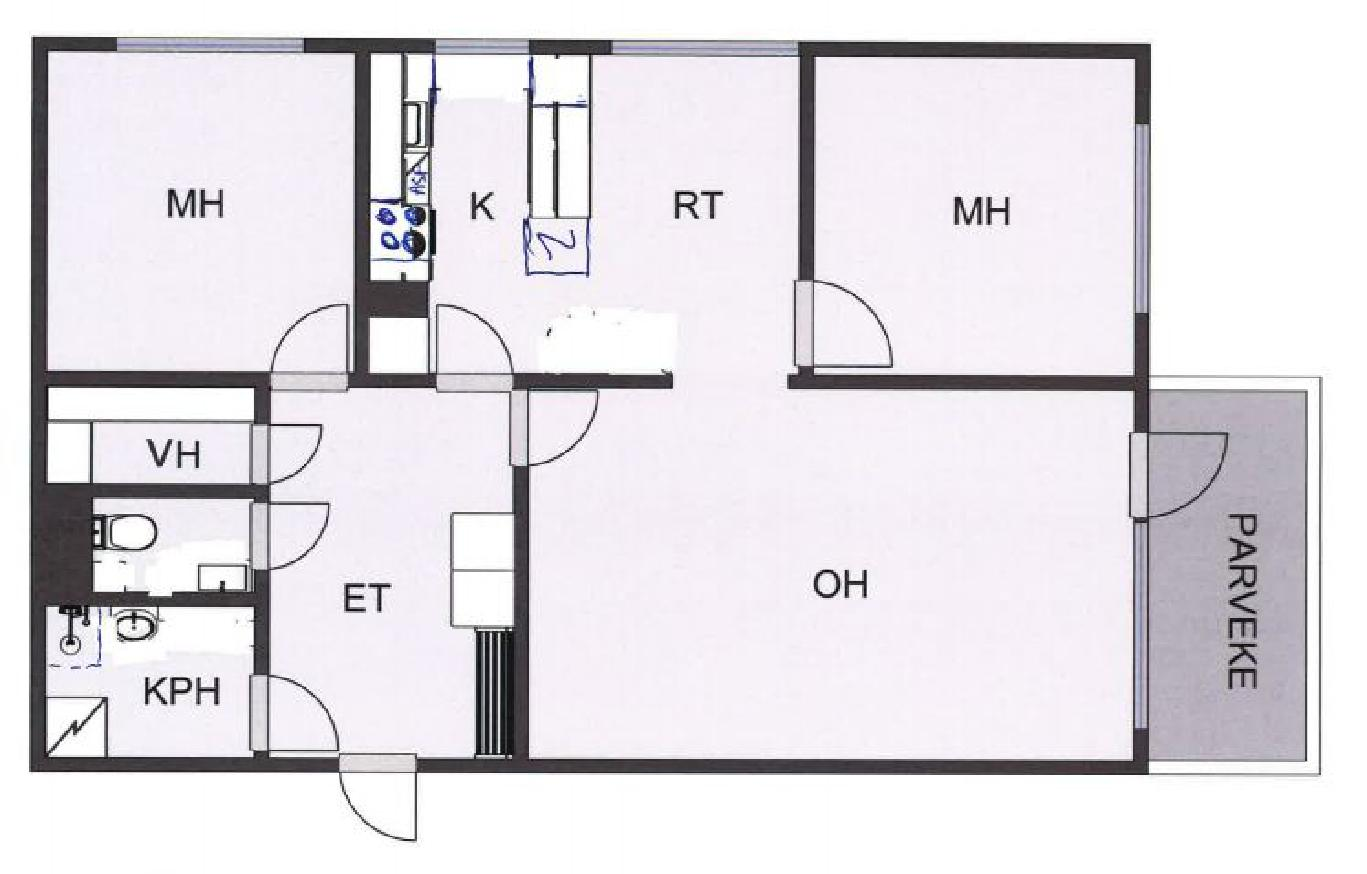door: (792, 282, 904, 372), (1122, 430, 1236, 517), (337, 752, 428, 846), (244, 675, 342, 757), (432, 303, 519, 393), (509, 390, 602, 472), (271, 301, 351, 389), (249, 498, 332, 576), (250, 423, 329, 481)
window: (114, 33, 305, 56), (1133, 522, 1152, 730), (612, 39, 795, 58), (1134, 124, 1151, 313), (437, 39, 530, 57)
zone: (528, 384, 1133, 766), (369, 53, 799, 375), (812, 53, 1133, 373), (46, 49, 355, 369), (268, 391, 513, 754), (1149, 384, 1305, 759), (51, 606, 255, 757), (46, 385, 264, 484), (90, 497, 251, 591)
